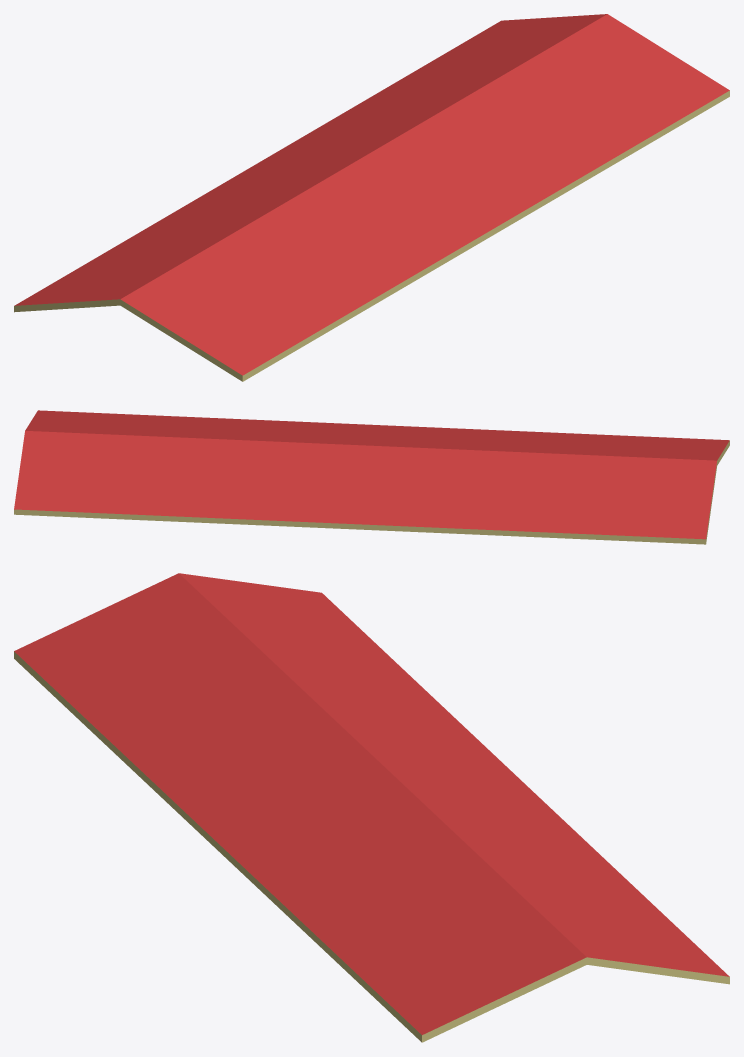
The picture shows the model from 3 angles, top to bottom: view 1: azimuth 30°, elevation 25°; view 2: azimuth 150°, elevation 25°; view 3: azimuth 270°, elevation 25°; orthographic projection. The views are drawn at different scales.
Size of the model in its own units: 12.63 by 8.63 by 0.722.
